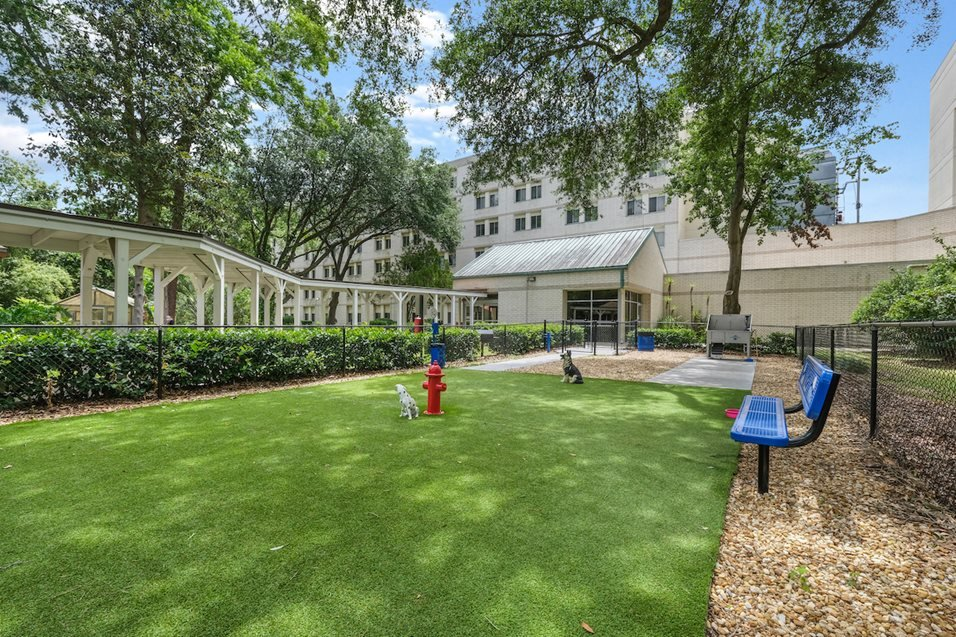bench: (733, 368, 835, 481)
firehdyrant: (420, 363, 445, 415)
